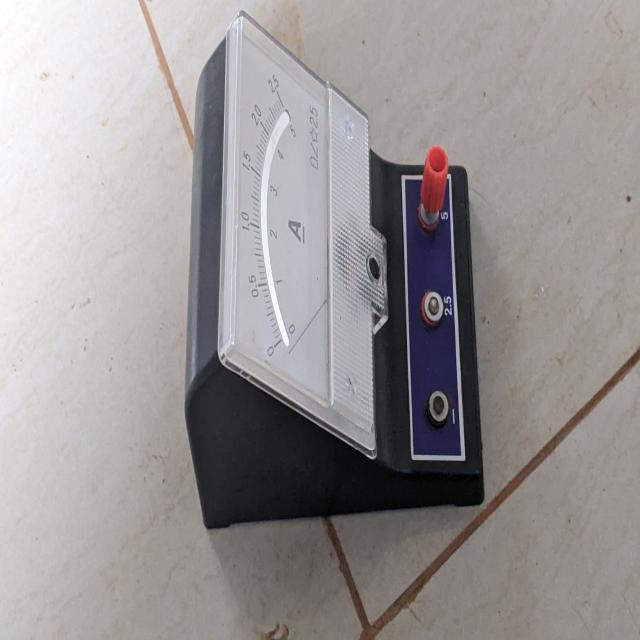Ammeter Analog: (171, 11, 490, 529)
